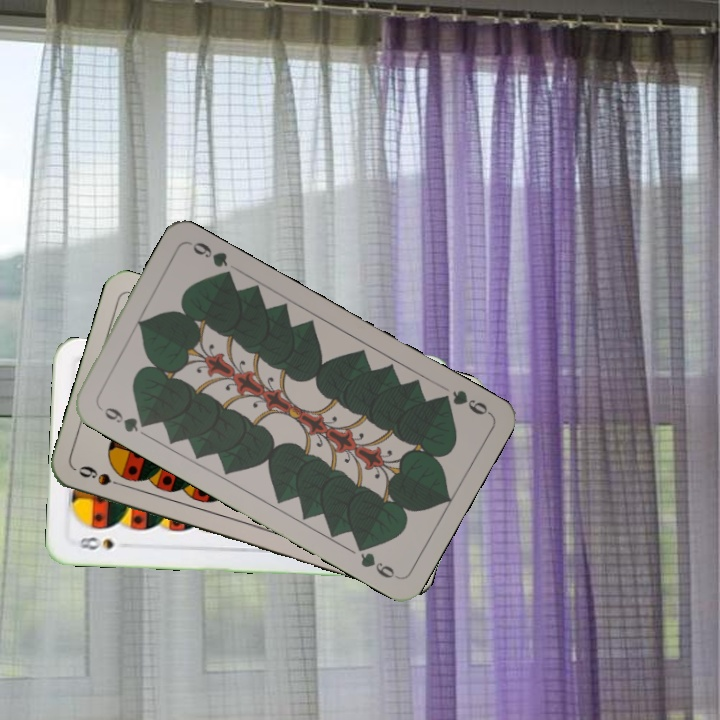G9: (94, 400, 152, 435), (433, 386, 493, 418)
S8: (75, 532, 116, 552)
S9: (75, 461, 131, 491)
